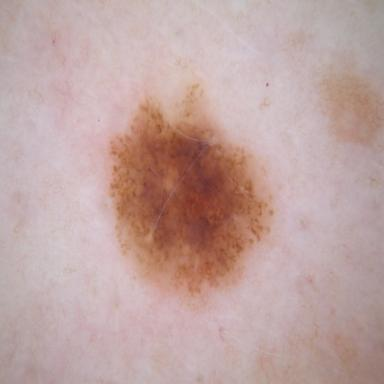nevus: (109, 83, 274, 310)
